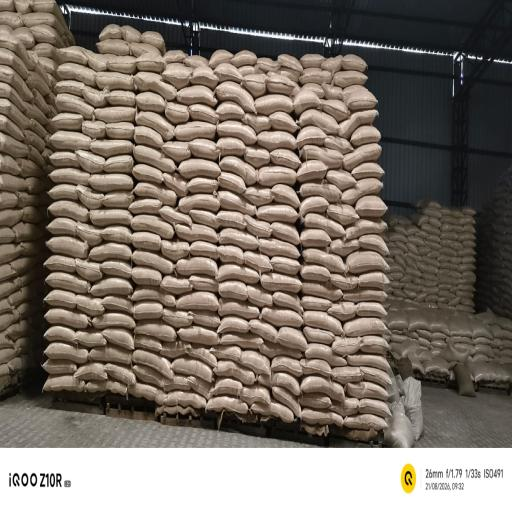rice_bag: (385, 401, 414, 447), (0, 32, 35, 69), (216, 81, 256, 112), (132, 349, 173, 378), (404, 378, 423, 440), (135, 72, 176, 100), (134, 144, 175, 172), (136, 111, 174, 141), (0, 65, 32, 100), (301, 144, 344, 169), (301, 376, 344, 401), (220, 156, 257, 185), (342, 178, 383, 204), (302, 248, 346, 272), (339, 109, 378, 136), (346, 250, 389, 274), (304, 213, 345, 238), (132, 249, 173, 274), (305, 343, 347, 367), (132, 215, 174, 239), (134, 182, 176, 206), (258, 372, 300, 396), (217, 120, 257, 145), (344, 143, 381, 170), (251, 399, 294, 422), (215, 360, 256, 384), (56, 93, 93, 119), (172, 358, 212, 382), (45, 272, 90, 293), (45, 307, 90, 328), (299, 110, 338, 134), (219, 190, 256, 215), (23, 12, 65, 34), (45, 342, 88, 363), (300, 180, 341, 202), (260, 236, 299, 259), (346, 381, 388, 402), (178, 158, 220, 179), (176, 223, 218, 244), (49, 200, 89, 222), (272, 387, 301, 417), (0, 48, 28, 79), (0, 98, 28, 129), (47, 236, 88, 257), (90, 344, 131, 365), (178, 325, 219, 346), (135, 321, 176, 342), (176, 291, 219, 311), (304, 312, 343, 334), (58, 63, 95, 86), (128, 381, 165, 404), (346, 219, 386, 240), (219, 228, 259, 249), (177, 258, 217, 279), (261, 272, 301, 293), (219, 298, 259, 319), (50, 131, 91, 151), (175, 121, 216, 141), (468, 363, 509, 383), (177, 85, 216, 106), (0, 82, 26, 113), (164, 390, 206, 409), (258, 165, 296, 186), (89, 174, 133, 192), (257, 131, 296, 151), (91, 277, 132, 296), (257, 204, 298, 223), (262, 308, 302, 327), (255, 95, 293, 115), (30, 24, 63, 47), (344, 317, 386, 335), (293, 88, 321, 115), (206, 396, 248, 414), (91, 139, 133, 157), (90, 243, 132, 261), (217, 265, 259, 283), (163, 63, 192, 89), (276, 327, 307, 351), (91, 208, 132, 226), (345, 88, 377, 111), (453, 363, 475, 396), (35, 0, 65, 24), (302, 282, 342, 300), (180, 194, 220, 212), (43, 375, 85, 392), (93, 312, 135, 329), (221, 333, 263, 350), (188, 138, 219, 161), (355, 195, 387, 217), (266, 74, 298, 96), (327, 204, 359, 226), (95, 72, 134, 90), (0, 132, 28, 157), (49, 168, 90, 185), (348, 354, 389, 371), (302, 409, 343, 426), (271, 184, 300, 208), (241, 350, 270, 374), (159, 205, 192, 226), (326, 169, 356, 192), (273, 291, 303, 314), (105, 363, 136, 385), (360, 366, 391, 388), (103, 328, 134, 350), (346, 414, 386, 431), (76, 221, 102, 247), (424, 310, 451, 335), (359, 398, 391, 419), (298, 160, 328, 182), (94, 107, 135, 123), (45, 325, 76, 346), (271, 356, 302, 377), (77, 185, 103, 210), (0, 114, 24, 141), (219, 171, 246, 195), (249, 319, 277, 342), (162, 141, 190, 164), (300, 196, 329, 218), (269, 111, 298, 133), (358, 235, 388, 256), (297, 126, 327, 147), (73, 328, 106, 347), (322, 100, 349, 123), (75, 259, 102, 282), (45, 289, 76, 309), (102, 295, 133, 315), (190, 67, 218, 89), (244, 215, 272, 237), (351, 125, 380, 146), (136, 52, 165, 73), (243, 185, 272, 206), (189, 103, 218, 124), (241, 385, 270, 406), (136, 92, 165, 113), (133, 164, 163, 184), (101, 259, 131, 279), (132, 266, 162, 286), (75, 363, 108, 381), (334, 70, 367, 88), (351, 162, 384, 180), (300, 229, 331, 248), (301, 358, 332, 377), (102, 155, 133, 174), (101, 225, 132, 244), (161, 275, 192, 294), (243, 113, 271, 134), (161, 240, 189, 261), (219, 280, 248, 300), (164, 308, 193, 328), (357, 271, 389, 289), (101, 190, 133, 208), (188, 375, 212, 399), (47, 217, 77, 236), (45, 254, 75, 273), (360, 335, 388, 355), (214, 63, 242, 83), (76, 295, 104, 315), (216, 101, 244, 121), (217, 137, 245, 157), (133, 231, 161, 251), (344, 289, 387, 302), (52, 113, 83, 131), (300, 67, 331, 85), (243, 74, 266, 98), (12, 222, 41, 241), (58, 46, 87, 65), (134, 301, 163, 320), (217, 210, 246, 229), (7, 287, 32, 309), (245, 146, 270, 168), (449, 315, 474, 337), (82, 87, 108, 108), (130, 198, 162, 215), (329, 300, 356, 320), (304, 327, 334, 345), (331, 396, 359, 415), (142, 31, 165, 54), (43, 359, 76, 375), (97, 39, 130, 55), (248, 285, 272, 307), (165, 102, 189, 124), (56, 80, 87, 97), (218, 316, 249, 333), (324, 136, 353, 154), (332, 337, 361, 355), (333, 366, 362, 384), (213, 378, 242, 396), (271, 256, 300, 274), (108, 56, 136, 74), (106, 122, 134, 140), (190, 241, 218, 259), (88, 52, 113, 72), (424, 356, 449, 376), (300, 393, 331, 409), (187, 177, 218, 193), (211, 345, 242, 361), (106, 90, 135, 107), (218, 245, 245, 263), (301, 266, 331, 282), (51, 150, 79, 167), (331, 239, 359, 256), (231, 49, 257, 67), (130, 42, 161, 57), (0, 174, 27, 191), (331, 274, 358, 291), (209, 49, 233, 68), (342, 54, 367, 72), (278, 54, 303, 72), (49, 184, 77, 200), (0, 154, 21, 175), (14, 27, 35, 48), (357, 302, 386, 317), (301, 296, 332, 310), (9, 257, 33, 275), (82, 121, 106, 138), (38, 55, 58, 75), (0, 244, 21, 263), (0, 278, 19, 299), (410, 311, 431, 330), (471, 319, 492, 338), (0, 310, 19, 330), (388, 310, 408, 329), (0, 209, 22, 226), (322, 83, 344, 100), (99, 24, 122, 40), (491, 323, 512, 340), (35, 43, 57, 59), (321, 57, 342, 73), (300, 54, 325, 67), (0, 263, 18, 281), (257, 58, 280, 72), (121, 26, 141, 42), (304, 83, 324, 98), (164, 50, 187, 63), (185, 55, 208, 68), (395, 223, 418, 236), (0, 192, 18, 208), (422, 223, 441, 237), (0, 297, 15, 314), (456, 232, 475, 244), (388, 231, 407, 243), (440, 274, 459, 286), (0, 227, 14, 243), (417, 200, 441, 209), (412, 213, 428, 226), (423, 207, 441, 218), (405, 253, 417, 269), (408, 235, 425, 246), (424, 256, 439, 268), (460, 248, 475, 259), (462, 236, 476, 247), (460, 215, 475, 225), (461, 207, 476, 216), (423, 273, 438, 282), (429, 217, 441, 228), (441, 232, 457, 240), (441, 248, 457, 256), (462, 254, 474, 264), (427, 235, 440, 244), (459, 264, 475, 271), (461, 284, 475, 292), (422, 287, 438, 294), (451, 241, 463, 250), (463, 225, 475, 233), (442, 223, 453, 231), (417, 230, 428, 238), (452, 225, 464, 232), (440, 240, 453, 246)
